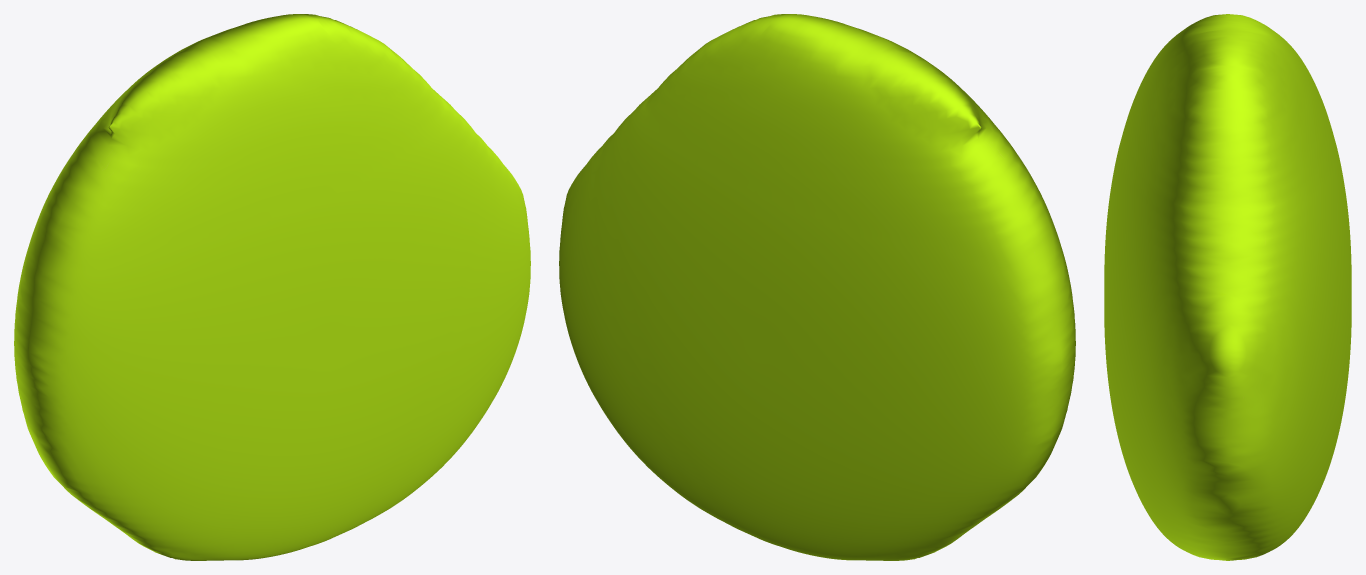
File: Disc_1.fbx
3 views of the same model, side by side, from view 1: azimuth 30°, elevation 25°; view 2: azimuth 150°, elevation 25°; view 3: azimuth 270°, elevation 25° (orthographic). The views are drawn at different scales.
Parts seen in each view (by area): view 1: root; view 2: root; view 3: root.
Part boxes in pixels (<box>): root: <box>14,14,530,560</box>; root: <box>559,14,1075,560</box>; root: <box>1104,14,1351,560</box>.
Bounding box in the file's own units: 0.4803 × 0.4821 × 0.2198.
1 material, 1 textured.
